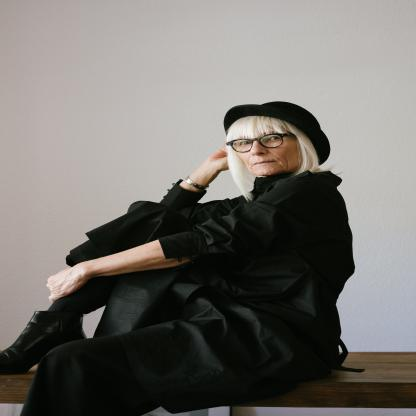Eye: (237, 140, 254, 148), (267, 135, 283, 143)
Mouth: (251, 158, 276, 168)
Nose: (249, 142, 268, 156)
